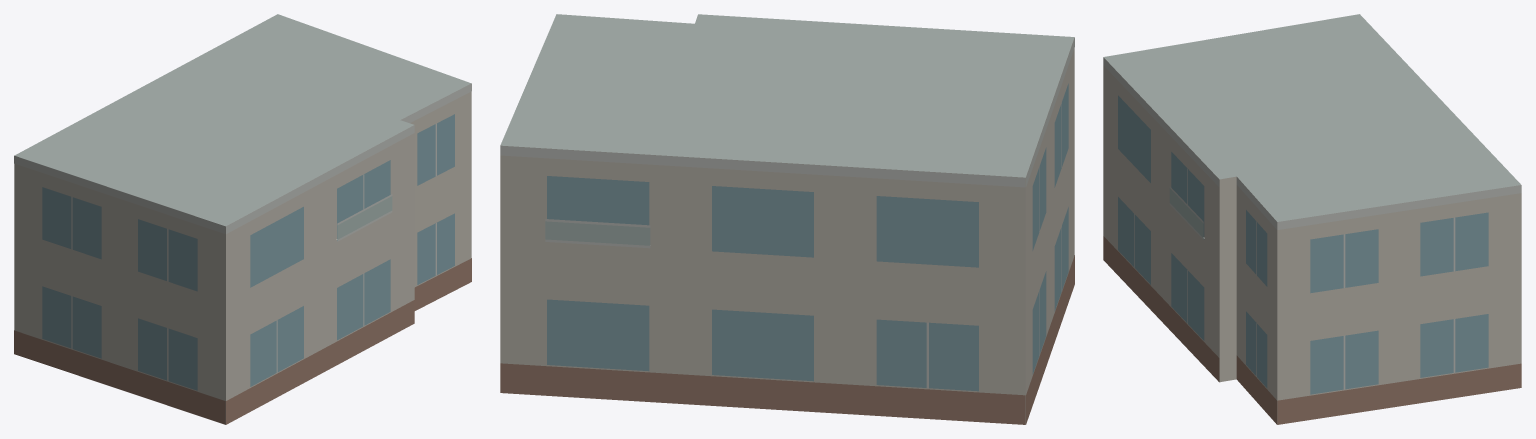
Rendered from survey-upis-32818444.glb.
3 views of the same model, side by side, from view 1: azimuth 30°, elevation 25°; view 2: azimuth 150°, elevation 25°; view 3: azimuth 270°, elevation 25° (orthographic). The views are drawn at different scales.
Parts seen in each view (by area): view 1: survey-upis-32818444.tmp; view 2: survey-upis-32818444.tmp; view 3: survey-upis-32818444.tmp.
Boxes of the visible parts, <box> form: survey-upis-32818444.tmp: <box>14,14,471,424</box>; survey-upis-32818444.tmp: <box>500,14,1074,424</box>; survey-upis-32818444.tmp: <box>1103,14,1521,424</box>.
Size of the model in its own units: 13.43 by 6.1 by 11.41.
